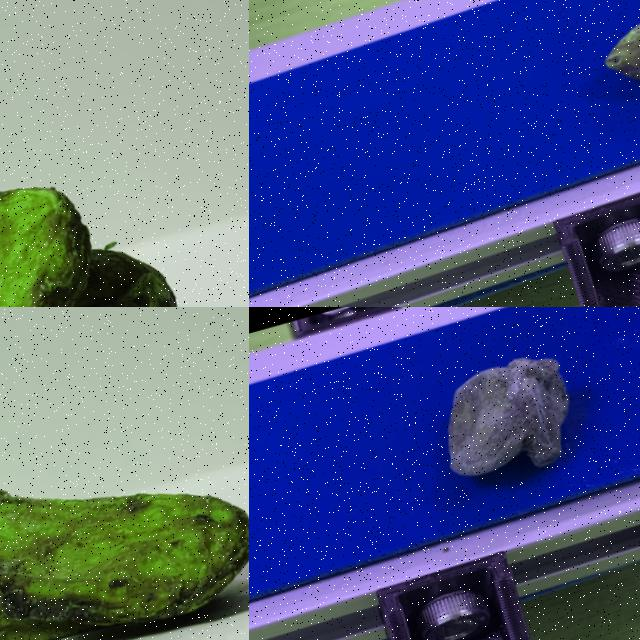Agglomerated_cocoabeans: (335, 307, 639, 558), (0, 386, 248, 639), (0, 95, 248, 306)
Fine_cocoabeans: (527, 0, 639, 156)
